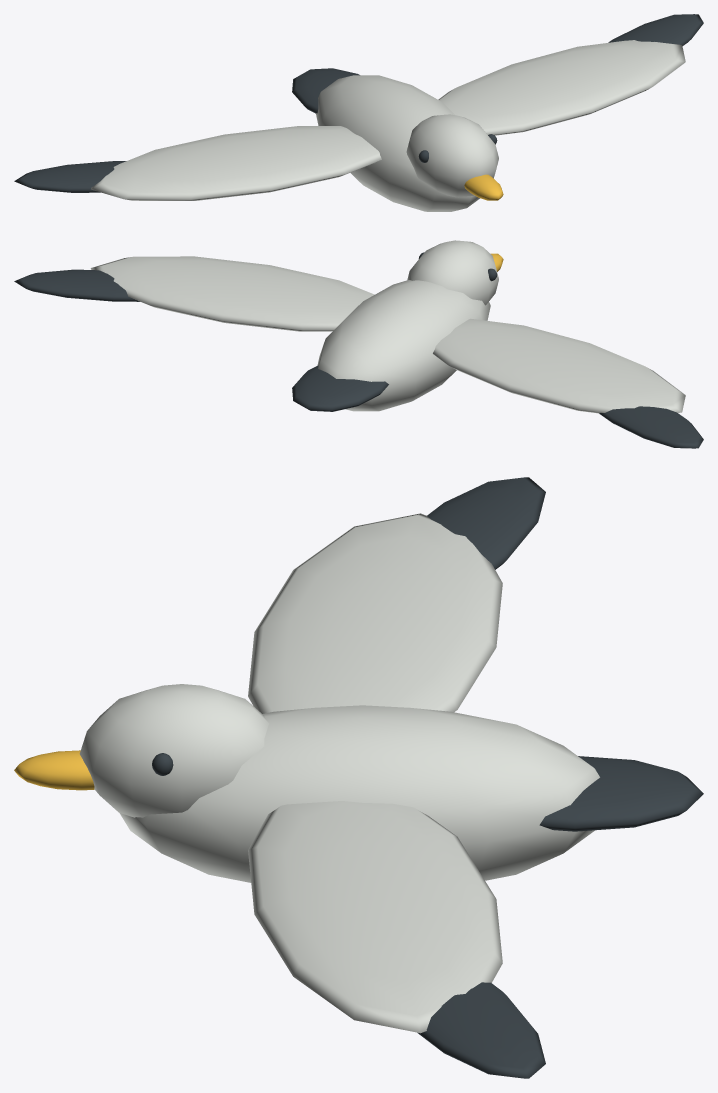
Rendered from coastal-gull.glb.
The picture shows the model from 3 angles, top to bottom: view 1: azimuth 30°, elevation 25°; view 2: azimuth 150°, elevation 25°; view 3: azimuth 270°, elevation 25°; orthographic projection. The views are drawn at different scales.
Visible parts, largest first — view 1: Wing feathers, Wing feathers.001, Body, Head, Flight feathers, Flight feathers.001, Tail, Beak; view 2: Wing feathers, Wing feathers.001, Body, Head, Tail, Flight feathers, Flight feathers.001; view 3: Body, Wing feathers.001, Wing feathers, Head, Flight feathers.001, Tail, Flight feathers, Beak.
Part boxes in pixels (x1=…): Wing feathers: x1=91, y1=126, x2=381, y2=200; Wing feathers.001: x1=438, y1=40, x2=685, y2=135; Body: x1=316, y1=75, x2=479, y2=211; Head: x1=406, y1=114, x2=498, y2=197; Flight feathers: x1=14, y1=161, x2=126, y2=192; Flight feathers.001: x1=608, y1=14, x2=703, y2=45; Tail: x1=292, y1=68, x2=359, y2=113; Beak: x1=464, y1=174, x2=503, y2=200; Wing feathers: x1=433, y1=318, x2=685, y2=413; Wing feathers.001: x1=90, y1=256, x2=374, y2=331; Body: x1=317, y1=280, x2=490, y2=411; Head: x1=407, y1=240, x2=498, y2=305; Tail: x1=292, y1=365, x2=388, y2=411; Flight feathers: x1=599, y1=406, x2=703, y2=448; Flight feathers.001: x1=14, y1=269, x2=139, y2=301; Body: x1=119, y1=705, x2=599, y2=882; Wing feathers.001: x1=248, y1=801, x2=502, y2=1033; Wing feathers: x1=248, y1=513, x2=502, y2=713; Head: x1=79, y1=684, x2=269, y2=817; Flight feathers.001: x1=417, y1=982, x2=545, y2=1078; Tail: x1=539, y1=756, x2=703, y2=831; Flight feathers: x1=427, y1=477, x2=545, y2=569; Beak: x1=14, y1=750, x2=94, y2=790.
Size of the model in its own units: 2.21 by 0.325 by 1.07.
